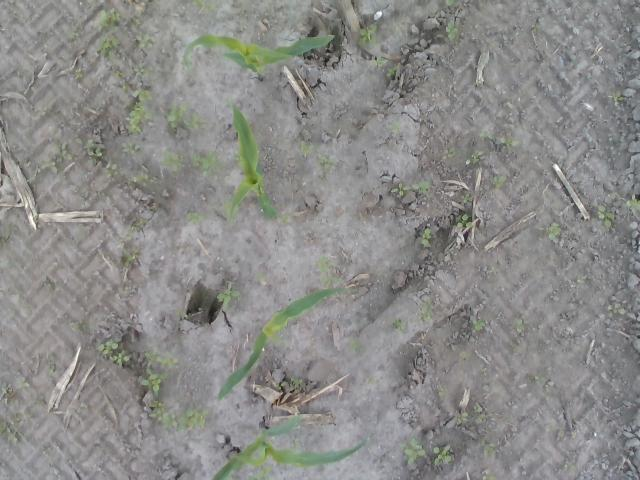Maize: (216, 286, 352, 402), (209, 413, 369, 480), (184, 32, 336, 82), (224, 96, 278, 222)
Weeds: (122, 80, 154, 136), (400, 437, 454, 467), (144, 401, 178, 431), (167, 101, 201, 130), (96, 338, 130, 366), (192, 150, 224, 178), (312, 255, 340, 287), (143, 349, 180, 370), (158, 150, 189, 175), (178, 407, 208, 432), (142, 368, 170, 394), (1, 414, 24, 445), (95, 35, 120, 62), (95, 8, 122, 32), (216, 287, 240, 311), (128, 30, 156, 48), (357, 23, 379, 45), (597, 202, 614, 228), (51, 143, 73, 163), (84, 138, 104, 160), (471, 402, 489, 425), (192, 0, 216, 17), (121, 246, 140, 267), (479, 436, 497, 458), (246, 465, 272, 480), (184, 210, 210, 225), (120, 140, 144, 156), (300, 141, 320, 160), (391, 317, 408, 338), (464, 320, 486, 336), (464, 150, 486, 166), (496, 136, 522, 149), (418, 298, 432, 322), (127, 175, 152, 188), (70, 320, 90, 336), (391, 182, 411, 198), (318, 154, 337, 170), (606, 303, 626, 318), (446, 22, 461, 42), (419, 226, 432, 247), (456, 213, 474, 228), (125, 222, 139, 241), (110, 64, 126, 80), (624, 194, 640, 210), (46, 352, 56, 377), (105, 161, 120, 177), (490, 174, 507, 188), (440, 146, 456, 160), (391, 16, 401, 38), (548, 222, 560, 240), (478, 129, 496, 141), (133, 62, 146, 78), (384, 66, 401, 78), (371, 54, 388, 66), (126, 16, 146, 26), (610, 88, 624, 102), (513, 318, 525, 334), (16, 377, 32, 389), (386, 122, 402, 134), (575, 271, 586, 288), (418, 180, 432, 193), (454, 412, 469, 424), (39, 159, 55, 170), (530, 22, 544, 34), (438, 386, 450, 398), (458, 352, 472, 362), (254, 272, 268, 282), (463, 193, 475, 204), (560, 462, 576, 470), (40, 446, 50, 458), (42, 280, 54, 290), (532, 371, 544, 381), (290, 439, 302, 449), (280, 214, 290, 226), (72, 70, 84, 80), (481, 473, 497, 480), (291, 376, 302, 386), (350, 339, 360, 350), (68, 31, 80, 40), (366, 376, 376, 386), (432, 8, 441, 18), (446, 0, 460, 6), (274, 382, 283, 390), (175, 308, 183, 316), (488, 266, 496, 273)
